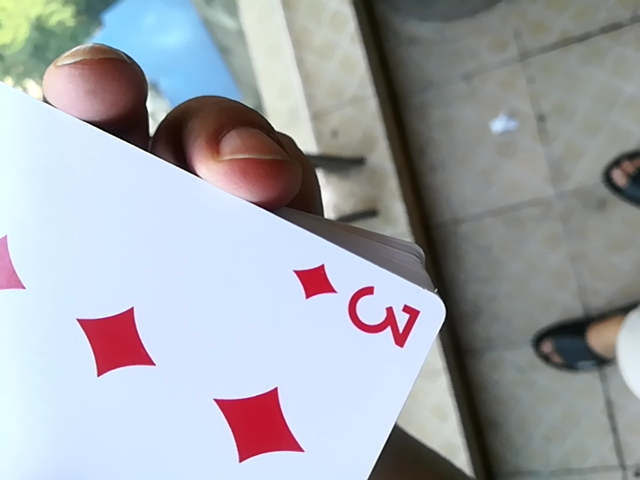fk 3: (5, 37, 441, 478)
